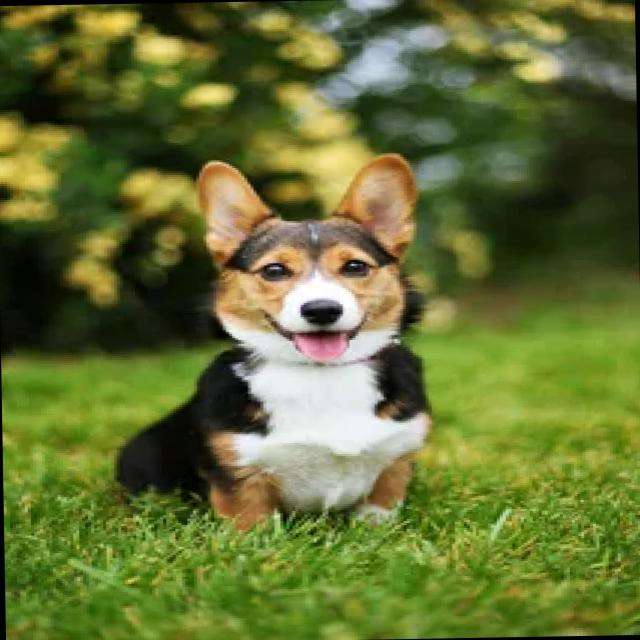Dog: (103, 148, 440, 536)
